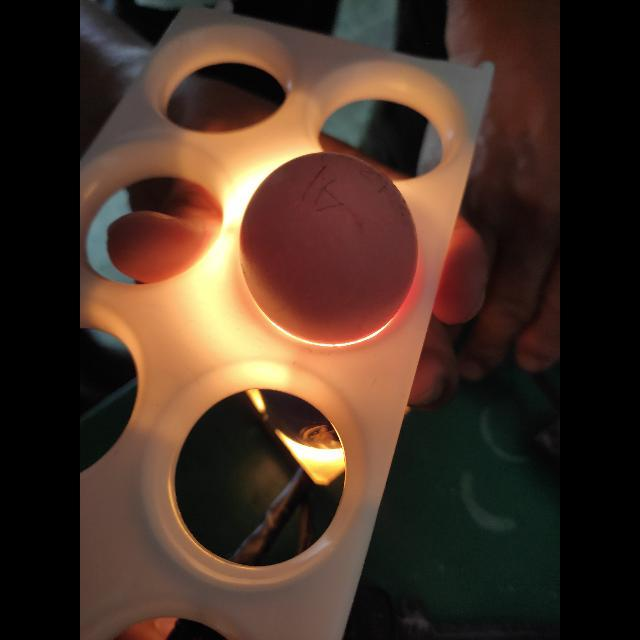Fertile: (240, 148, 420, 346)
